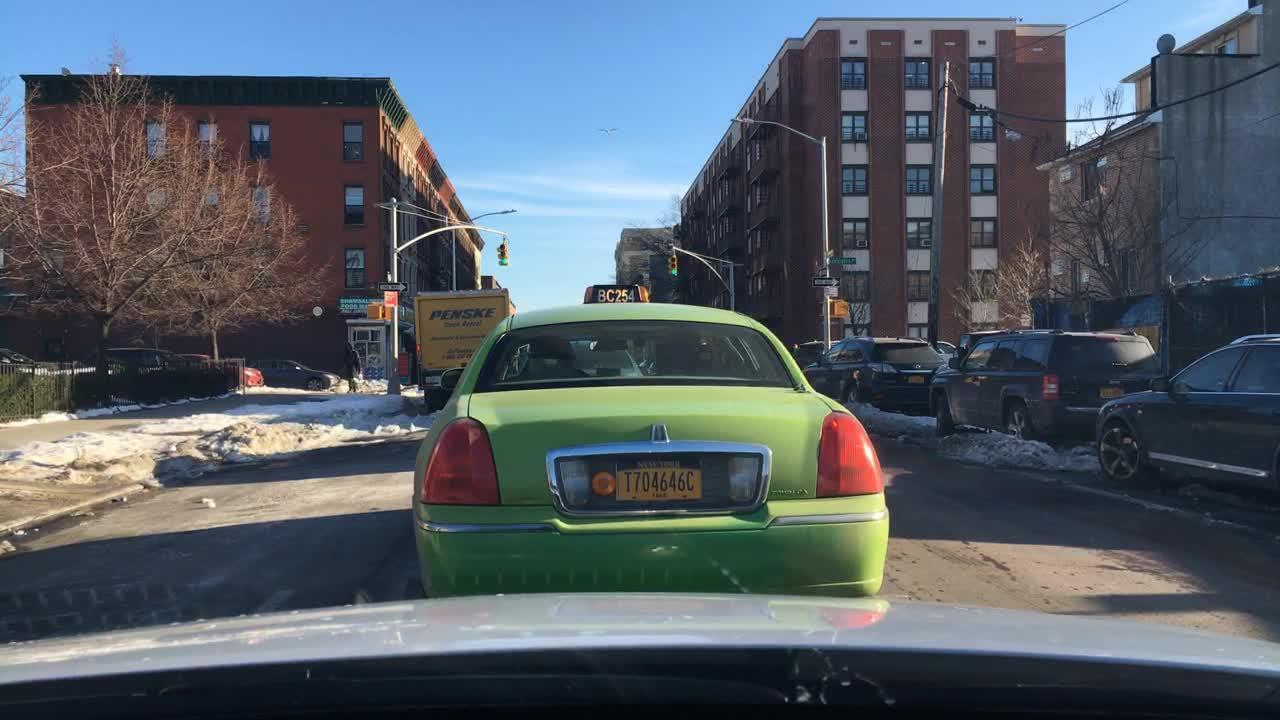jeep: (1105, 379, 1126, 388)
lincoln: (651, 418, 674, 446)
